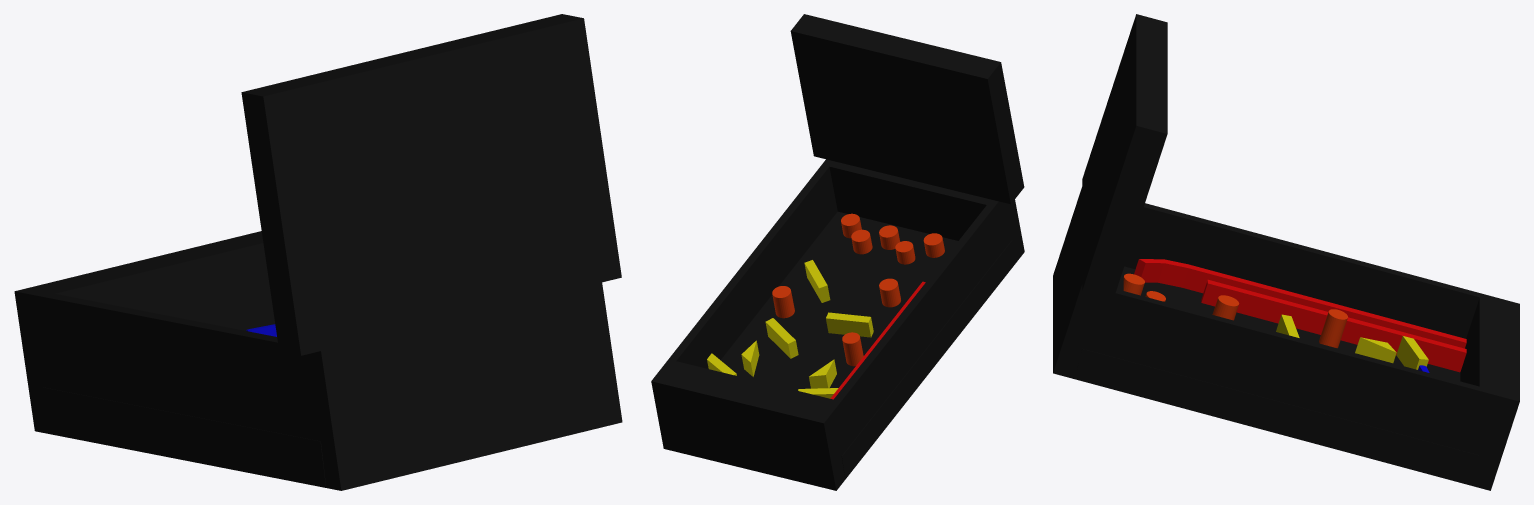
Rendered from pinballTable.obj.
The picture shows the model from 3 angles, left to right: view 1: azimuth 30°, elevation 25°; view 2: azimuth 150°, elevation 25°; view 3: azimuth 270°, elevation 25°; orthographic projection. The views are drawn at different scales.
Parts seen in each view (by area): view 1: Cube; view 2: Cube; view 3: Cube.
Part boxes in pixels (x1,y1,x2,y2): Cube: (14, 14, 622, 490); Cube: (651, 14, 1024, 490); Cube: (1053, 14, 1519, 490).
Size of the model in its own units: 25.88 by 40.19 by 45.7.
